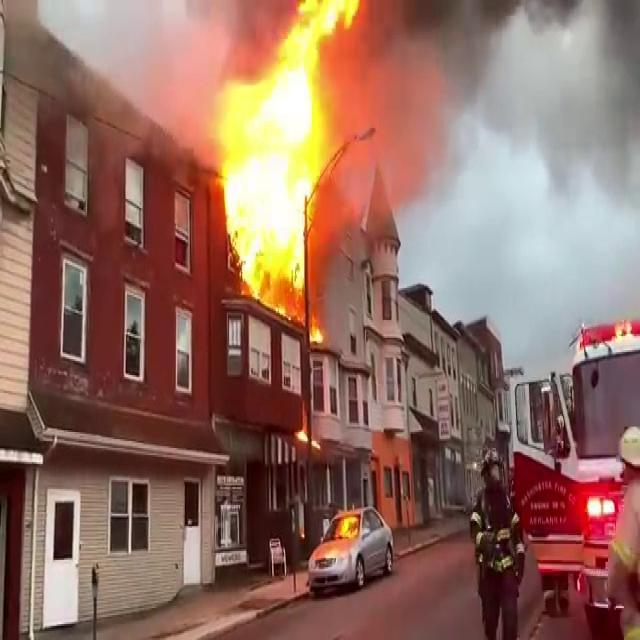Fire: (208, 0, 356, 302)
Smoke: (333, 0, 640, 220)
